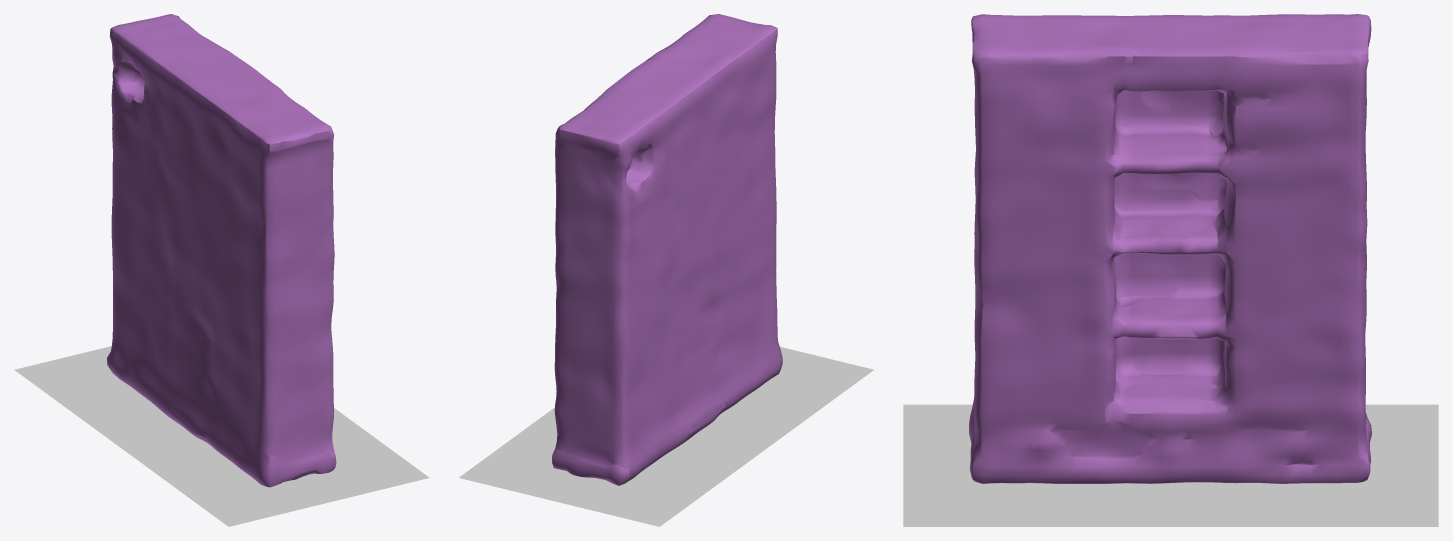
File: wardrobe.glb
The picture shows the model from 3 angles, left to right: view 1: azimuth 30°, elevation 25°; view 2: azimuth 150°, elevation 25°; view 3: azimuth 270°, elevation 25°; orthographic projection. The views are drawn at different scales.
Parts seen in each view (by area): view 1: Bedroom-68718, world; view 2: Bedroom-68718, world; view 3: Bedroom-68718, world.
Part boxes in pixels (x1,y1,x2,y2): Bedroom-68718: (107, 14, 336, 487); world: (14, 346, 429, 526); Bedroom-68718: (552, 14, 782, 485); world: (459, 347, 873, 526); Bedroom-68718: (969, 14, 1371, 483); world: (903, 404, 1438, 526).
Bounding box in the file's own units: 0.4816 × 0.7972 × 0.8905.
